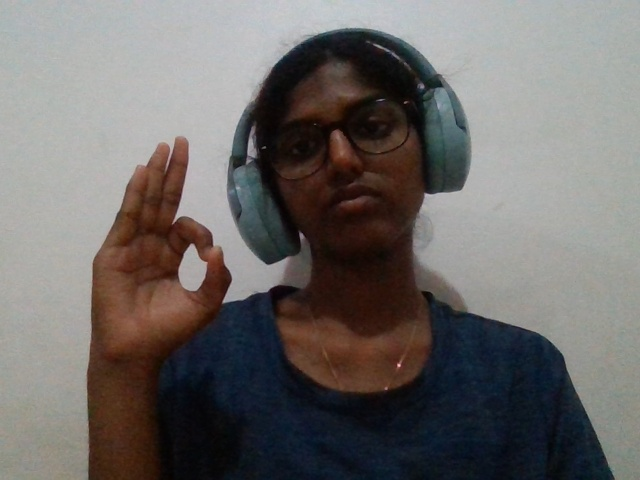F: (73, 127, 266, 480)
